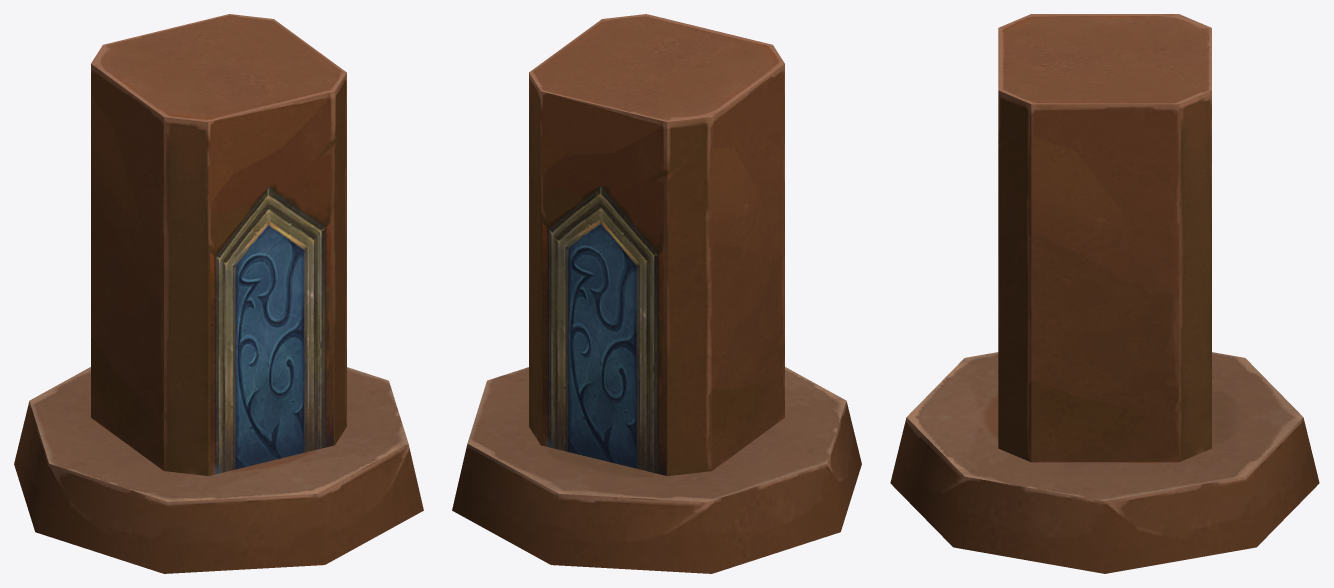
Rendered from wujian.fbx.
3 views of the same model, side by side, from view 1: azimuth 30°, elevation 25°; view 2: azimuth 150°, elevation 25°; view 3: azimuth 270°, elevation 25° (orthographic).
Visible parts, largest first — view 1: guchengqishituan_BOSS_C_01_a001; view 2: guchengqishituan_BOSS_C_01_a001; view 3: guchengqishituan_BOSS_C_01_a001.
Boxes of the visible parts, bbox=[...] form: guchengqishituan_BOSS_C_01_a001: bbox=[14, 14, 423, 573]; guchengqishituan_BOSS_C_01_a001: bbox=[452, 14, 861, 573]; guchengqishituan_BOSS_C_01_a001: bbox=[890, 14, 1319, 573].
Bounding box in the file's own units: 224 × 245 × 224.
